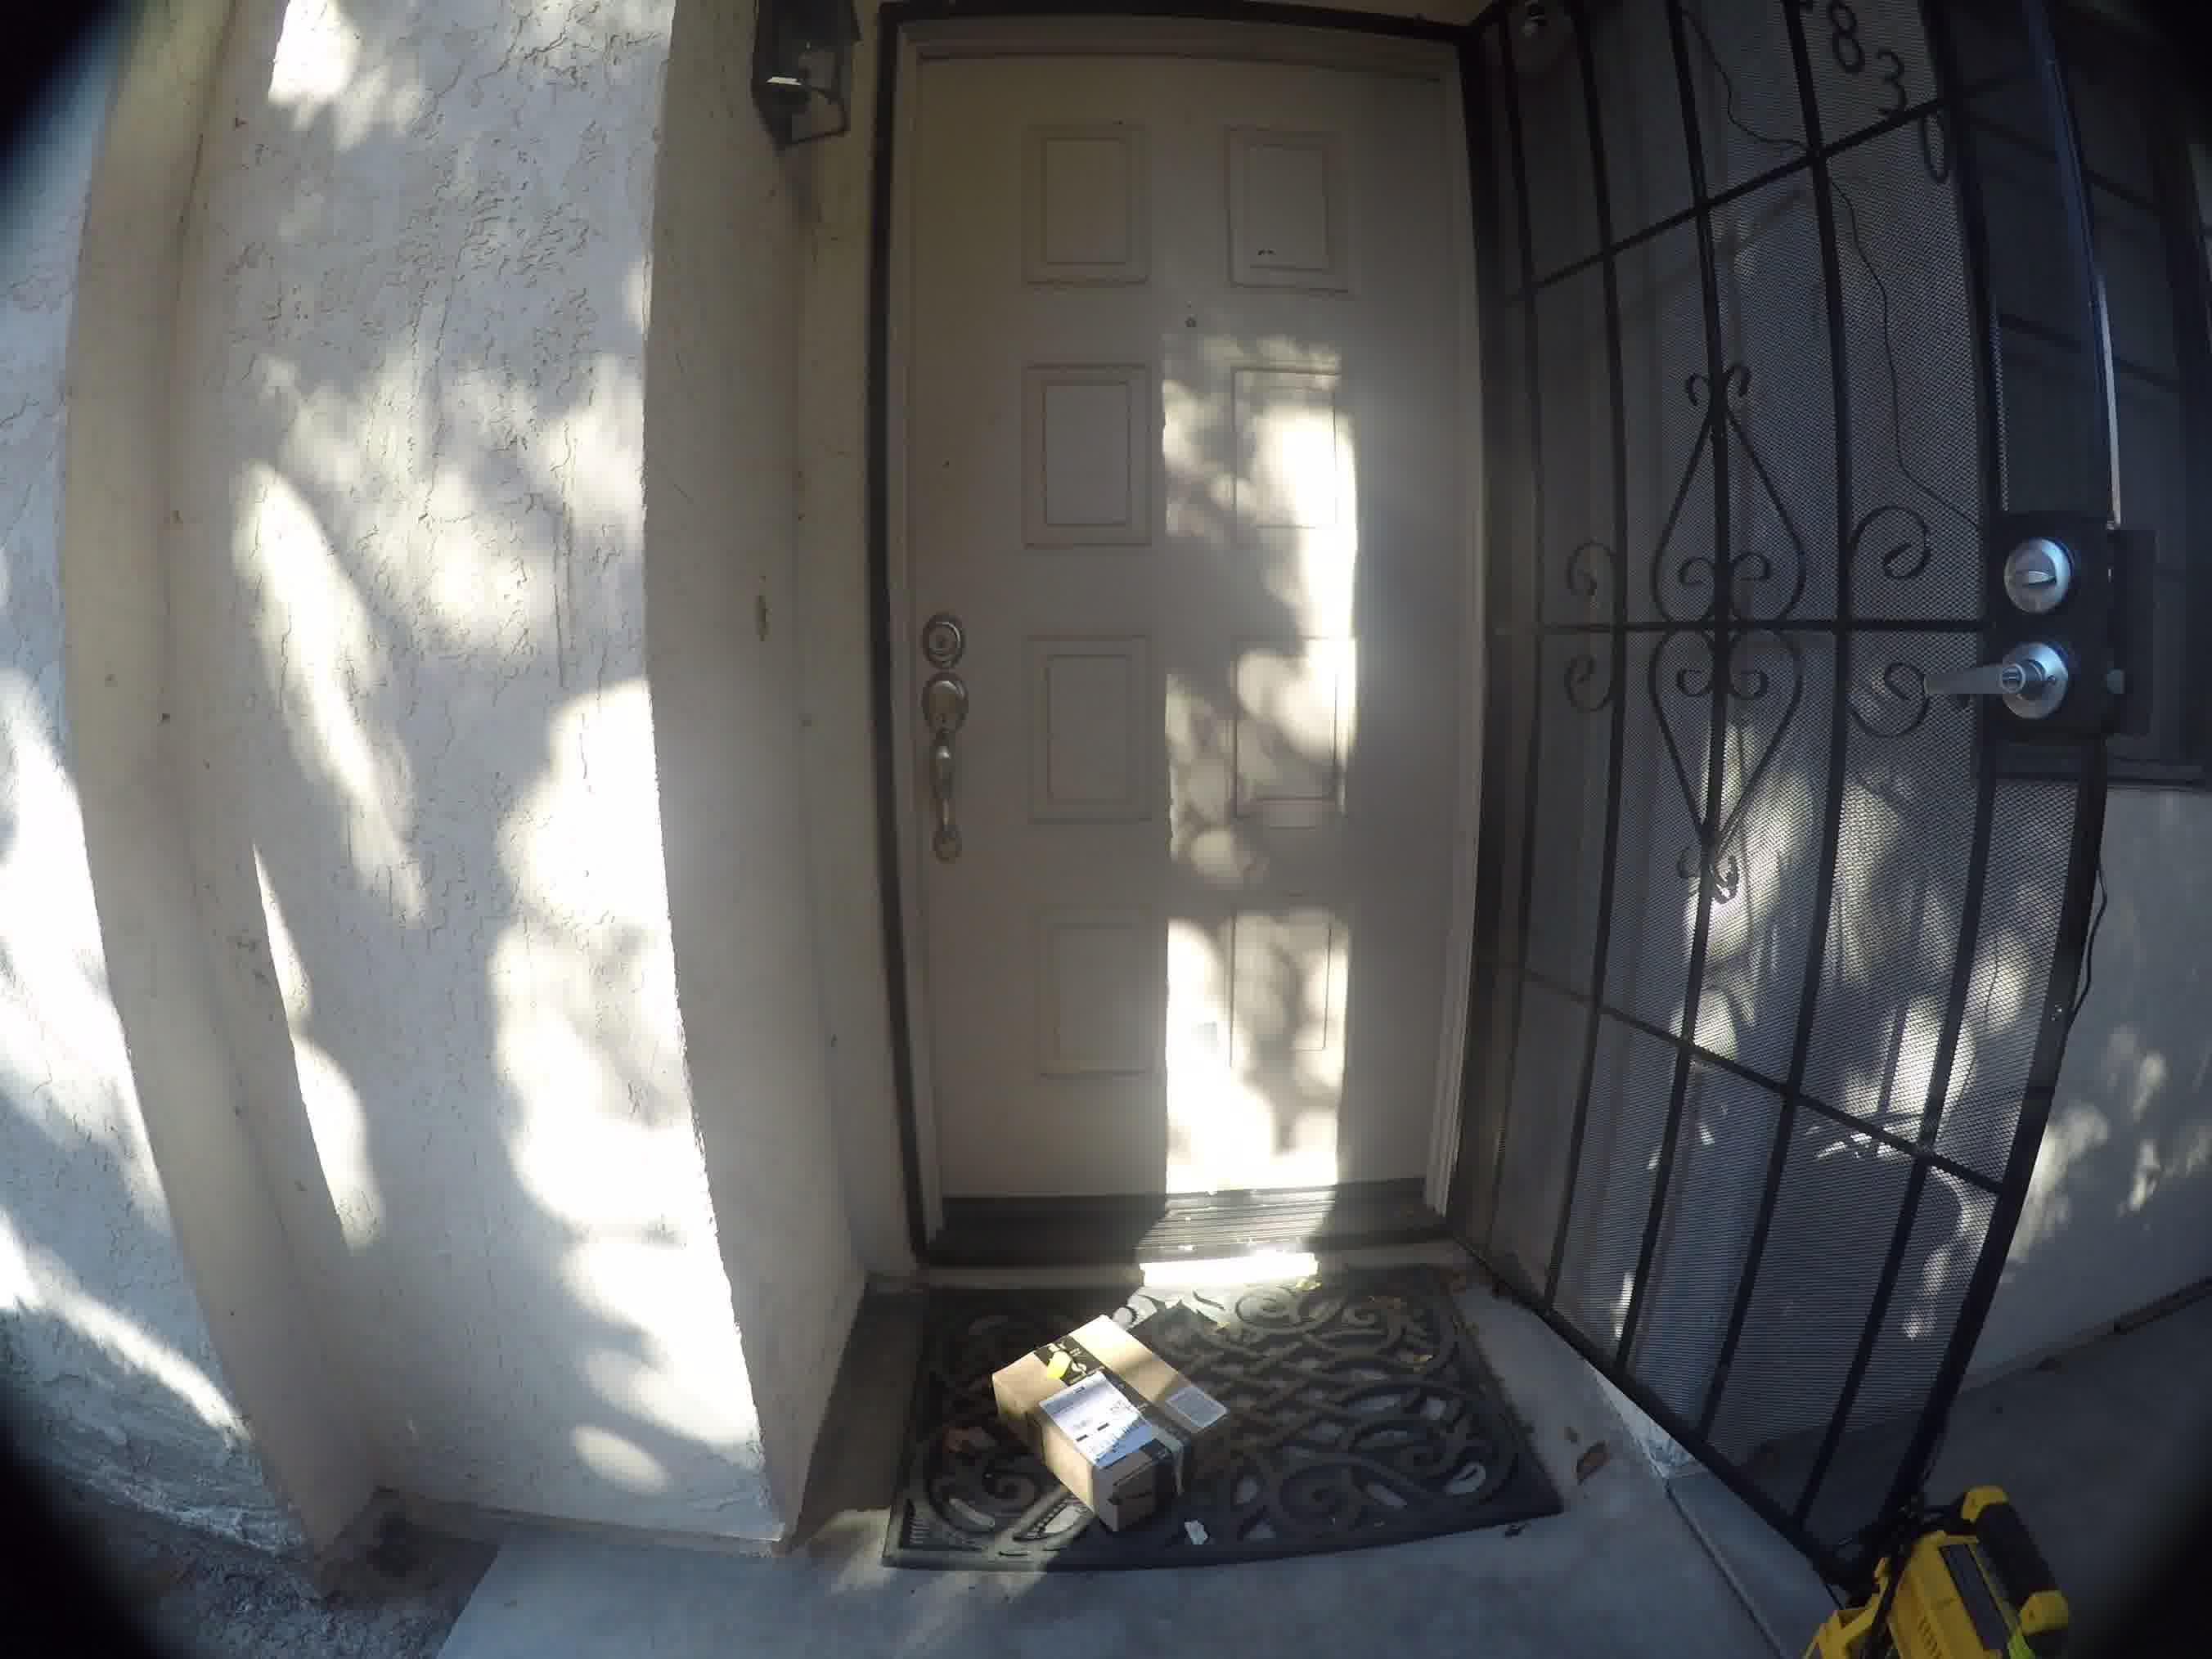box: (948, 1290, 1242, 1509)
